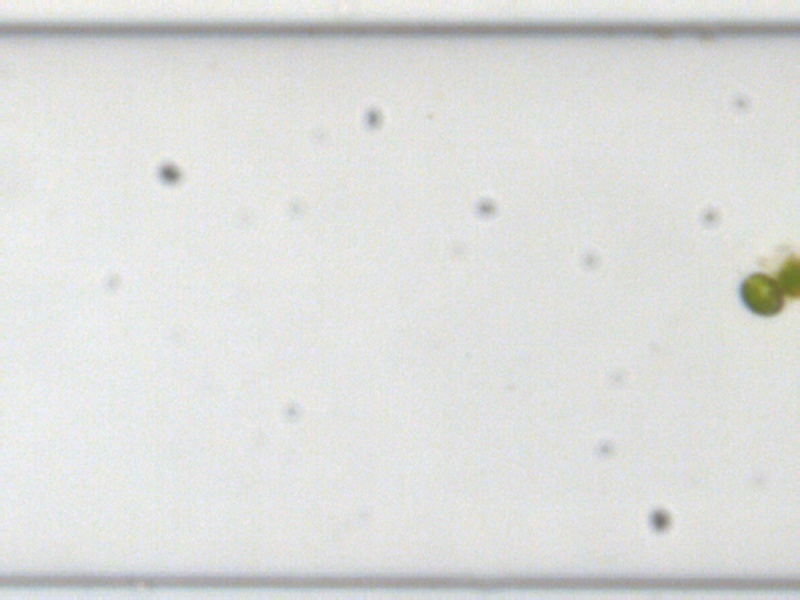Platymonas: (736, 273, 781, 321), (771, 251, 799, 292)
